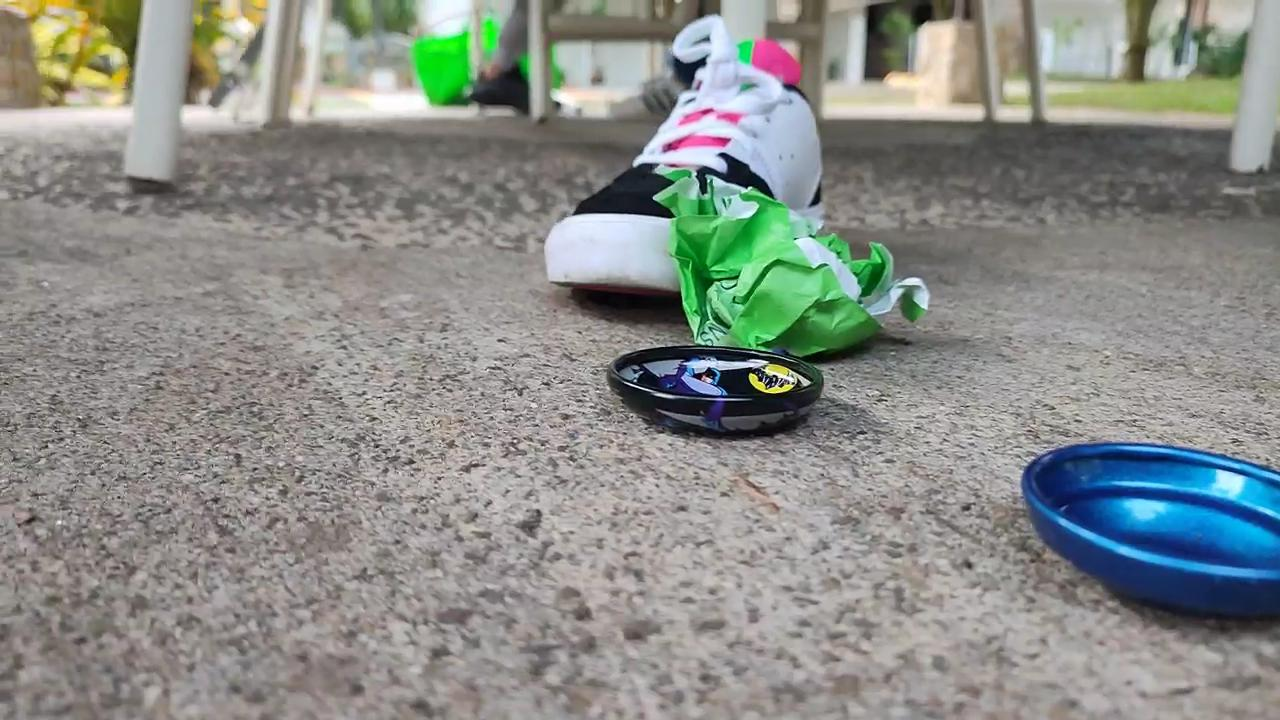Paper: (651, 154, 948, 362)
